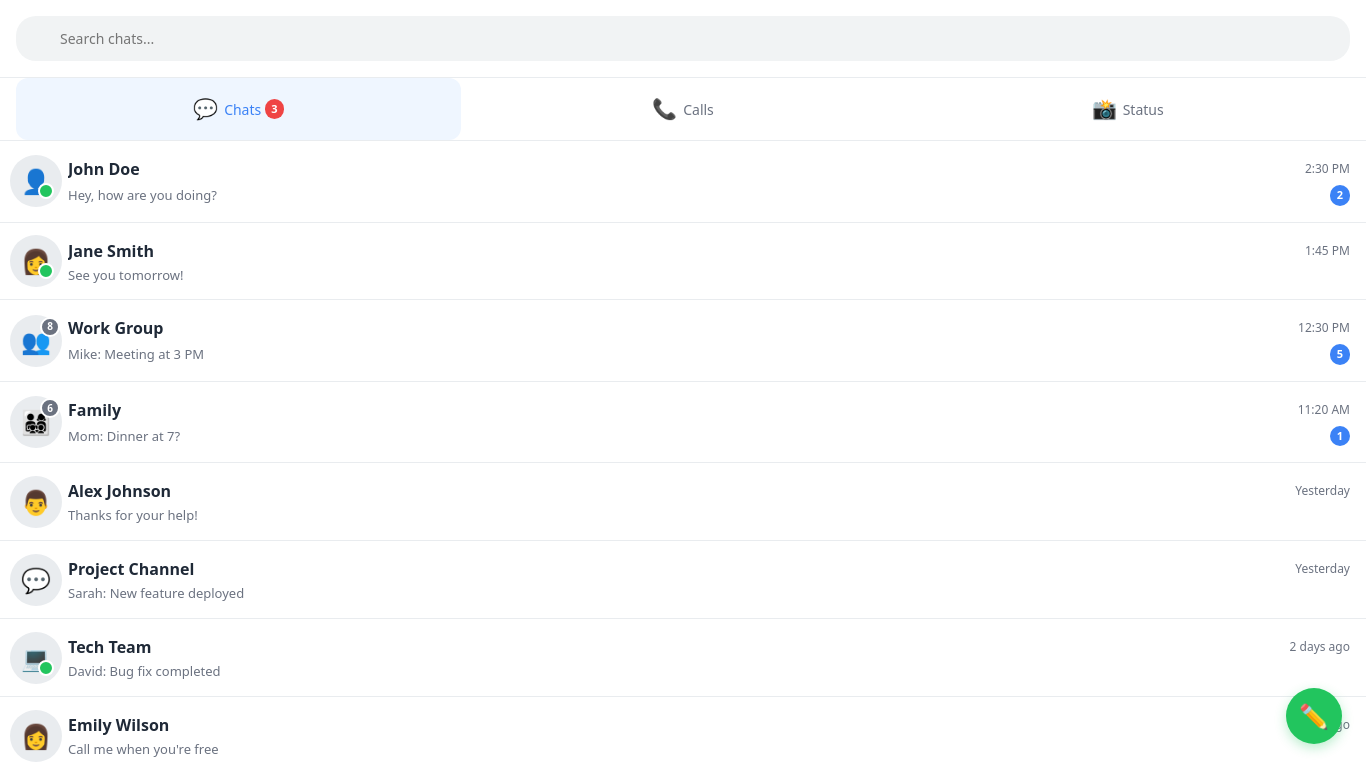
Test: ChatList Component › Functionality › filters chats based on search query
Filter by "John"
In the field with placeholder "Search chats...": [683, 38] box left=16, top=16, right=1350, bottom=61, type "John"
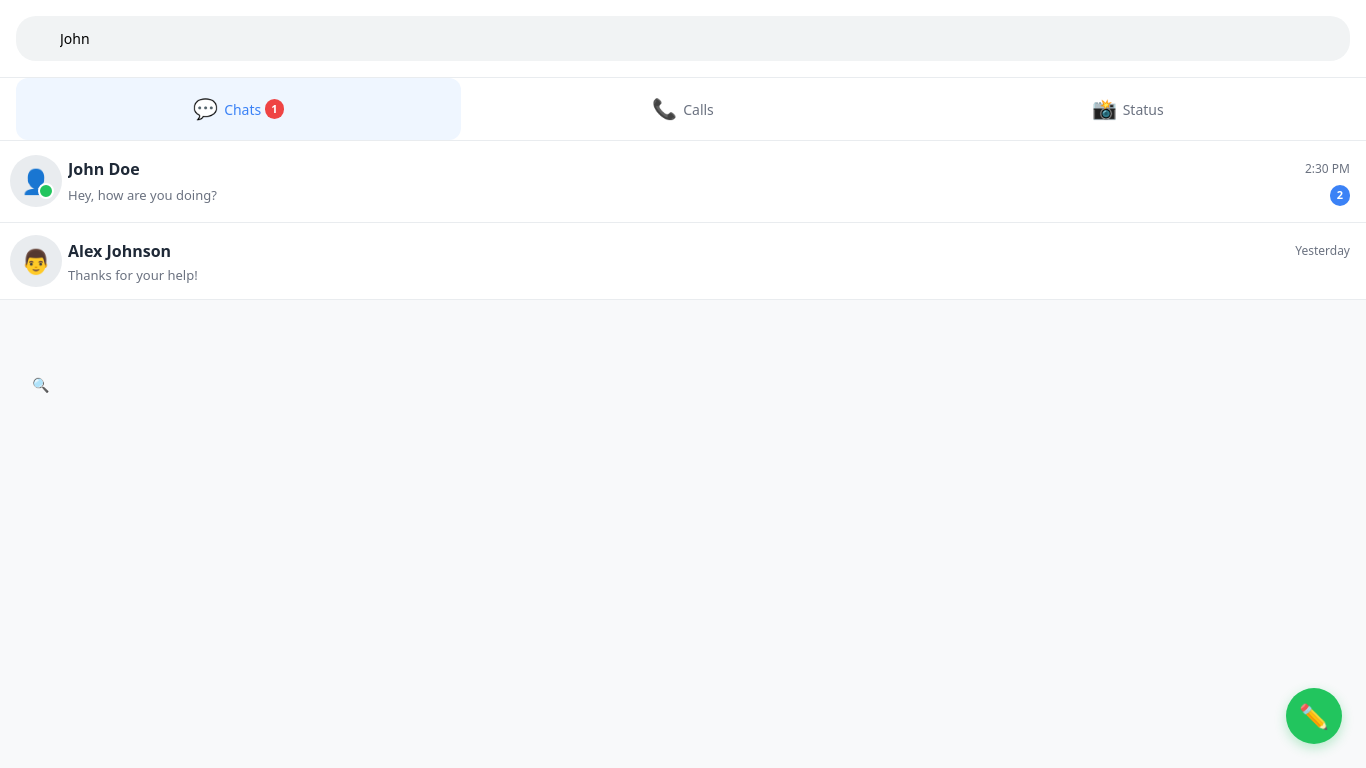
Expected: the text "John Doe" is shown, left=68, top=157, right=140, bottom=181
Expected: the text "Jane Smith" is gone
